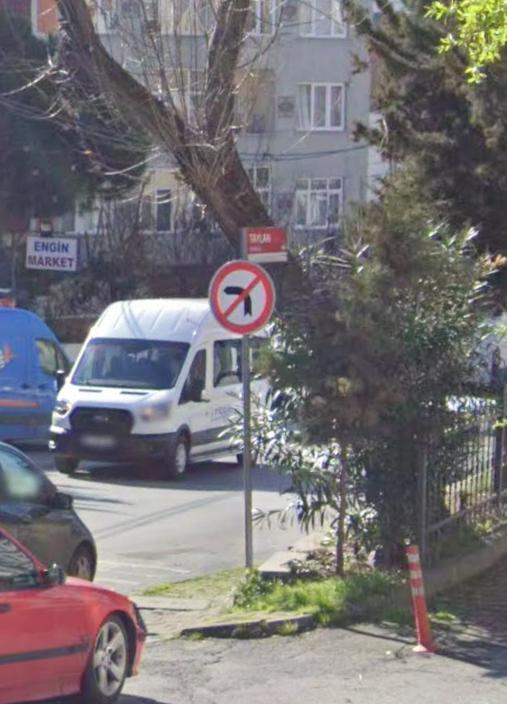leftturnsareforbidden: (213, 263, 270, 332)
